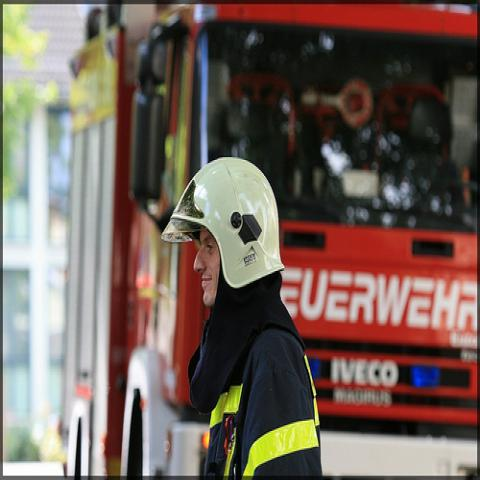truck: (62, 4, 479, 479)
